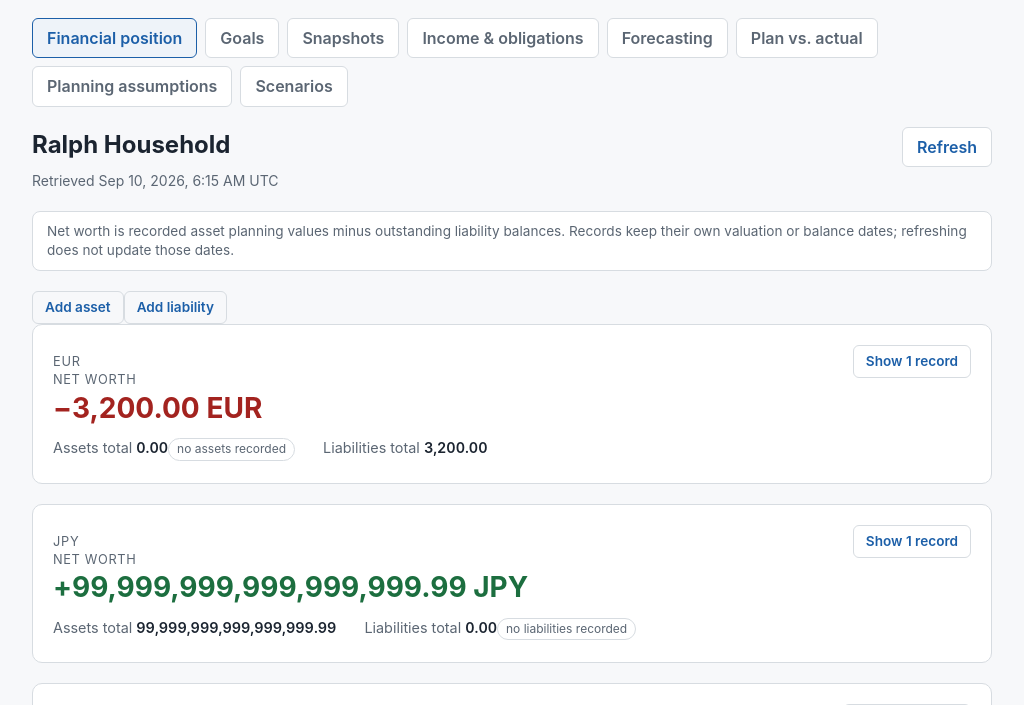
Scenario: refresh failure › retains the last successful result, dims it, and shows a banner instead of clearing the page
The image size is (1024, 705).
Check: the heading "Ralph Household" is shown, box 32,128 -> 230,161
Step 1. Click the button "Refresh" → [947, 147], box 902,127 -> 992,167
(page scrolled)
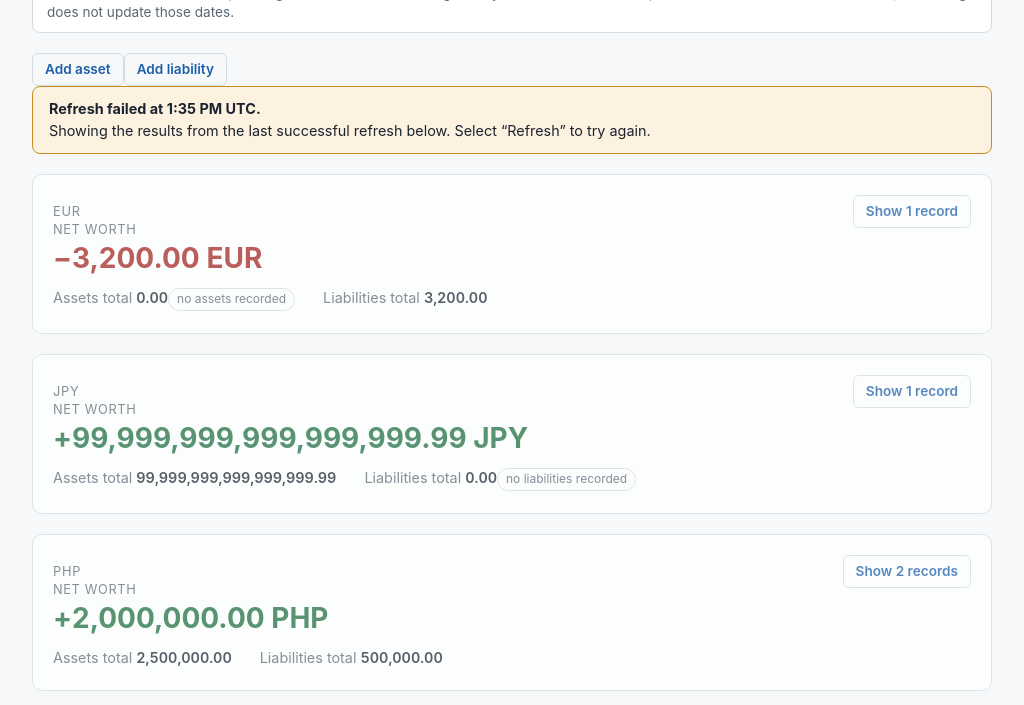
Check: the text "2,000,000.00 PHP" is shown, box 53,599 -> 328,638
Check: the message shows "Refresh failed", box 49,100 -> 167,117
